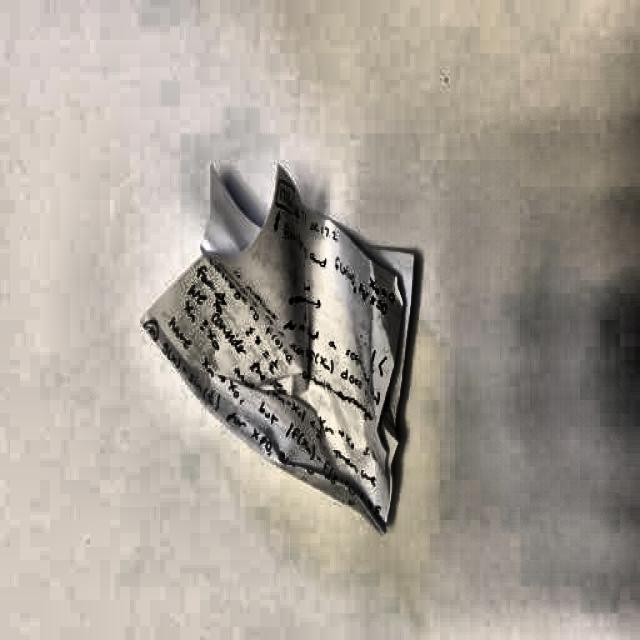paper: (142, 163, 418, 530)
